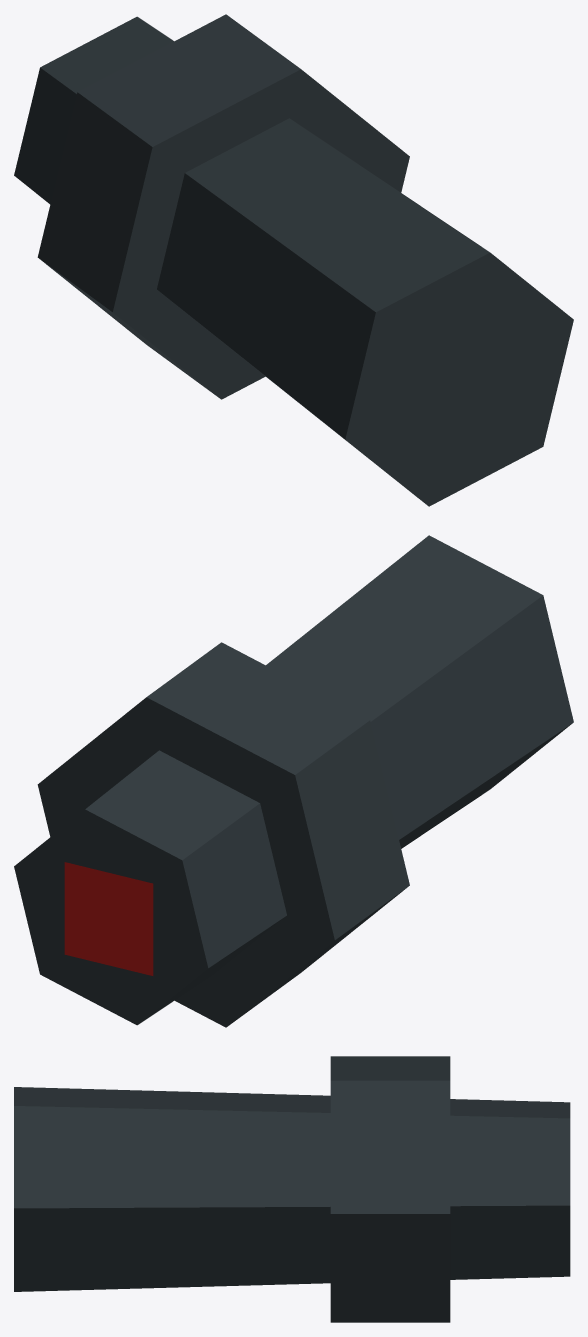
The picture shows the model from 3 angles, top to bottom: view 1: azimuth 30°, elevation 25°; view 2: azimuth 150°, elevation 25°; view 3: azimuth 270°, elevation 25°; orthographic projection. The views are drawn at different scales.
Parts seen in each view (by area): view 1: mount; view 2: mount; view 3: mount.
Boxes of the visible parts, x1=… form: mount: x1=14, y1=14, x2=573, y2=506; mount: x1=14, y1=535, x2=573, y2=1027; mount: x1=14, y1=1056, x2=570, y2=1322.
Bounding box in the file's own units: 2.29 × 2.29 × 4.67.
